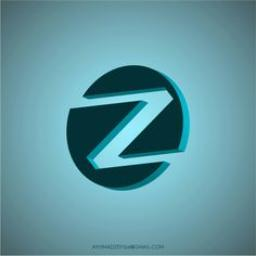z: (67, 86, 187, 174)
